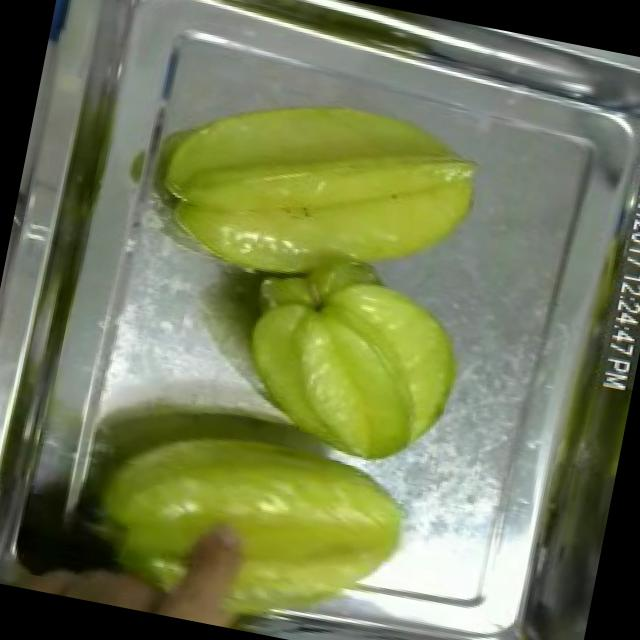fruit: (134, 53, 504, 330), (58, 385, 424, 640), (217, 244, 482, 481)
